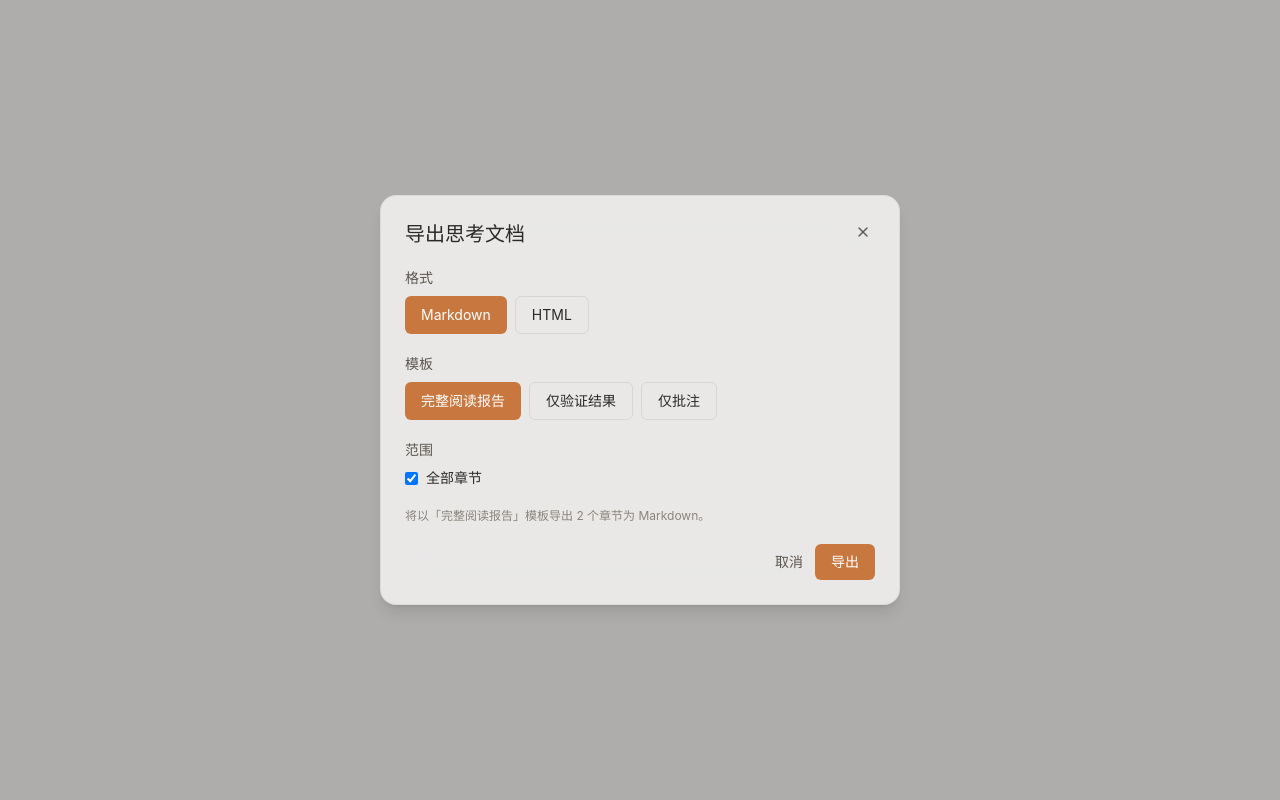
Test case: ExportDialog › announces empty chapter selection and disables export
This screenshot has width=1280, height=800.
Click the checkbox labelled "全部章节": (412, 478) [405,472,418,484]
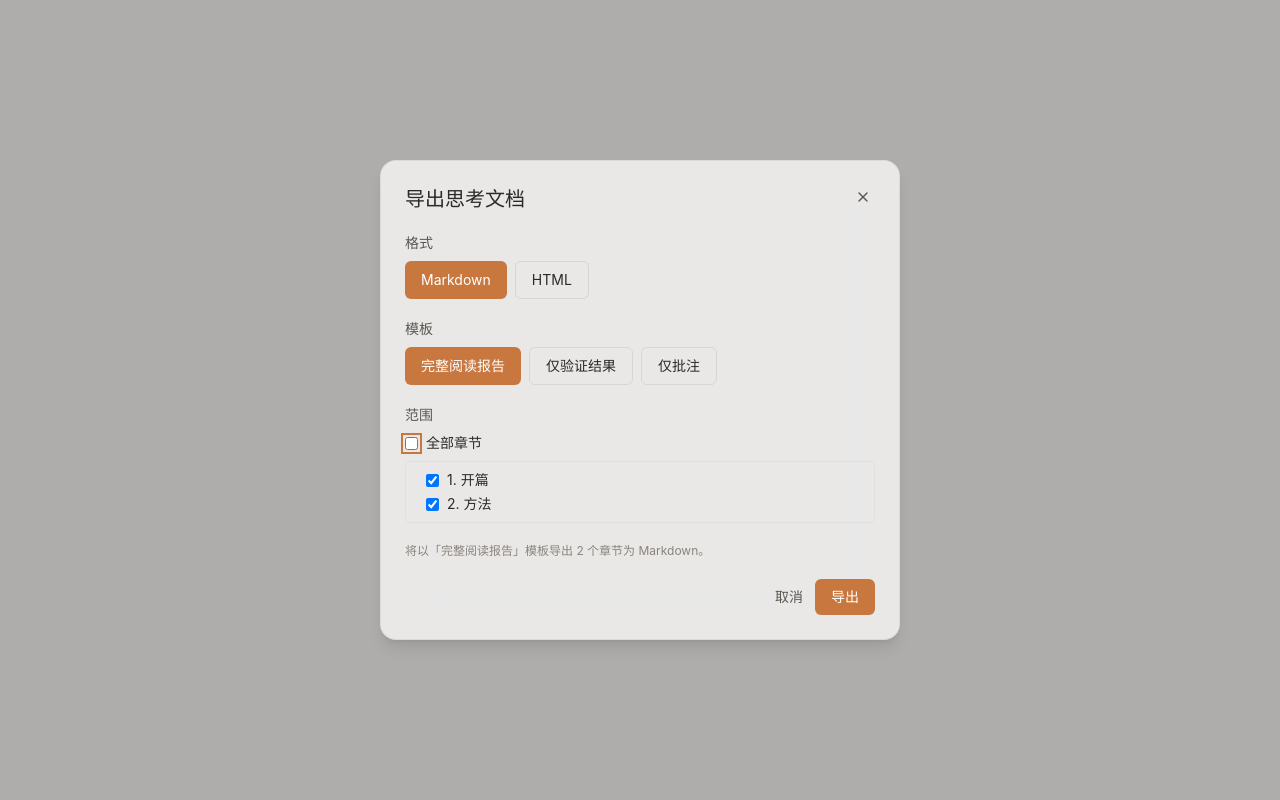
Click the checkbox labelled "1. 开篇": (432, 480) [426,474,439,486]
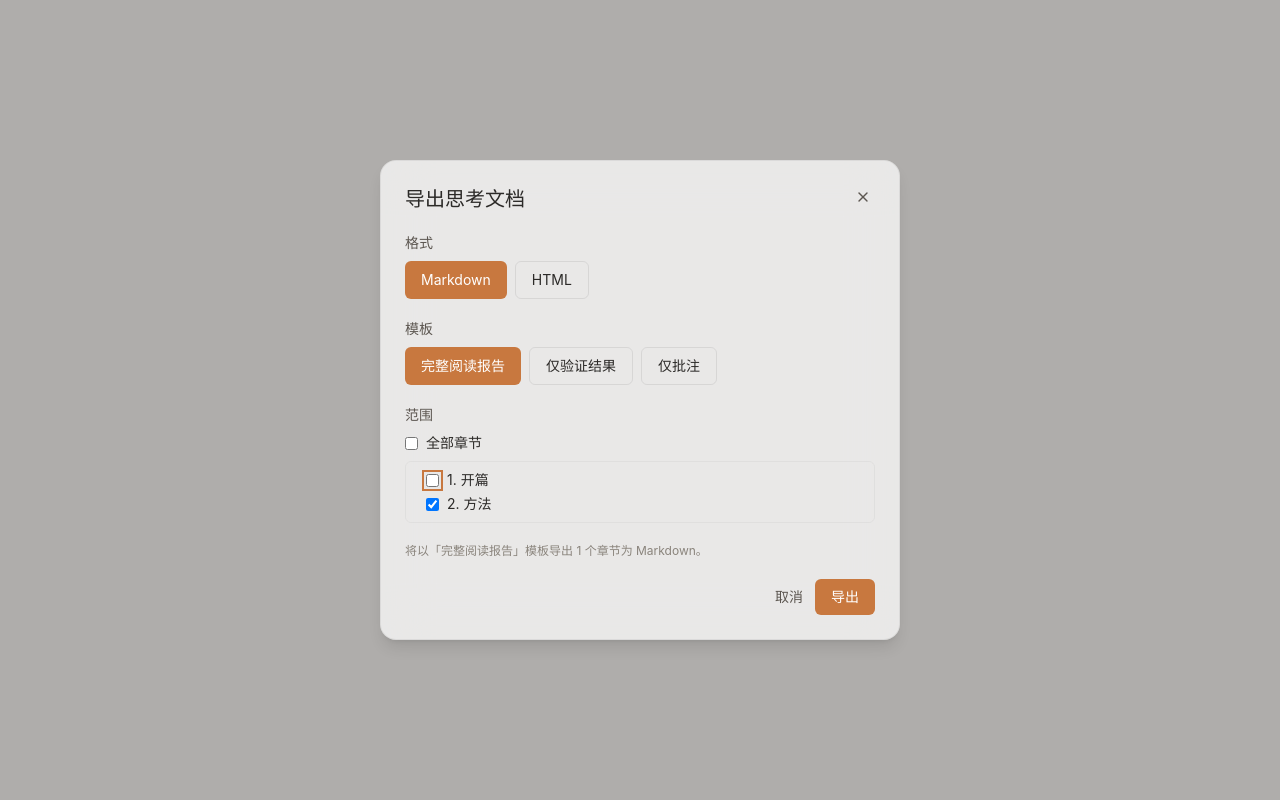
Click the checkbox labelled "2. 方法": (432, 504) [426,498,439,510]
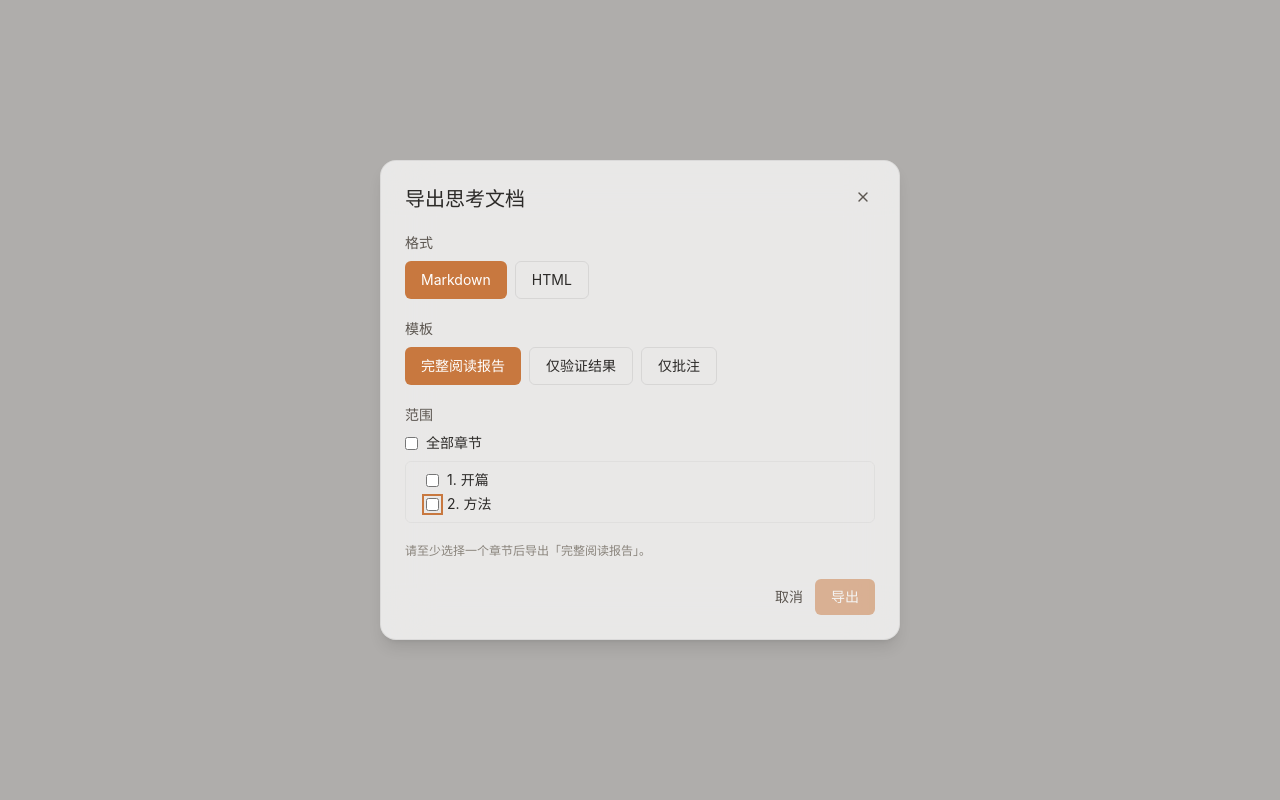
Now the message shows "请至少选择一个章节", box [405,543,651,558]
Now the button "导出" is disabled, box [815,579,875,615]
